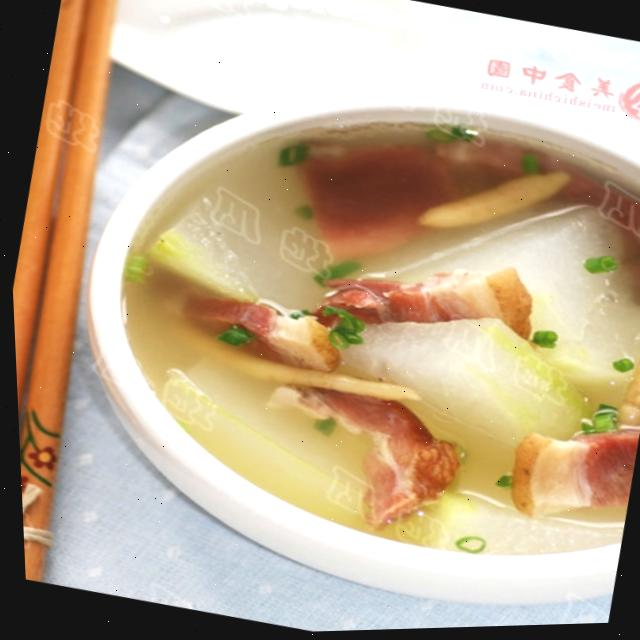汤锅炖物: (40, 0, 640, 639)
